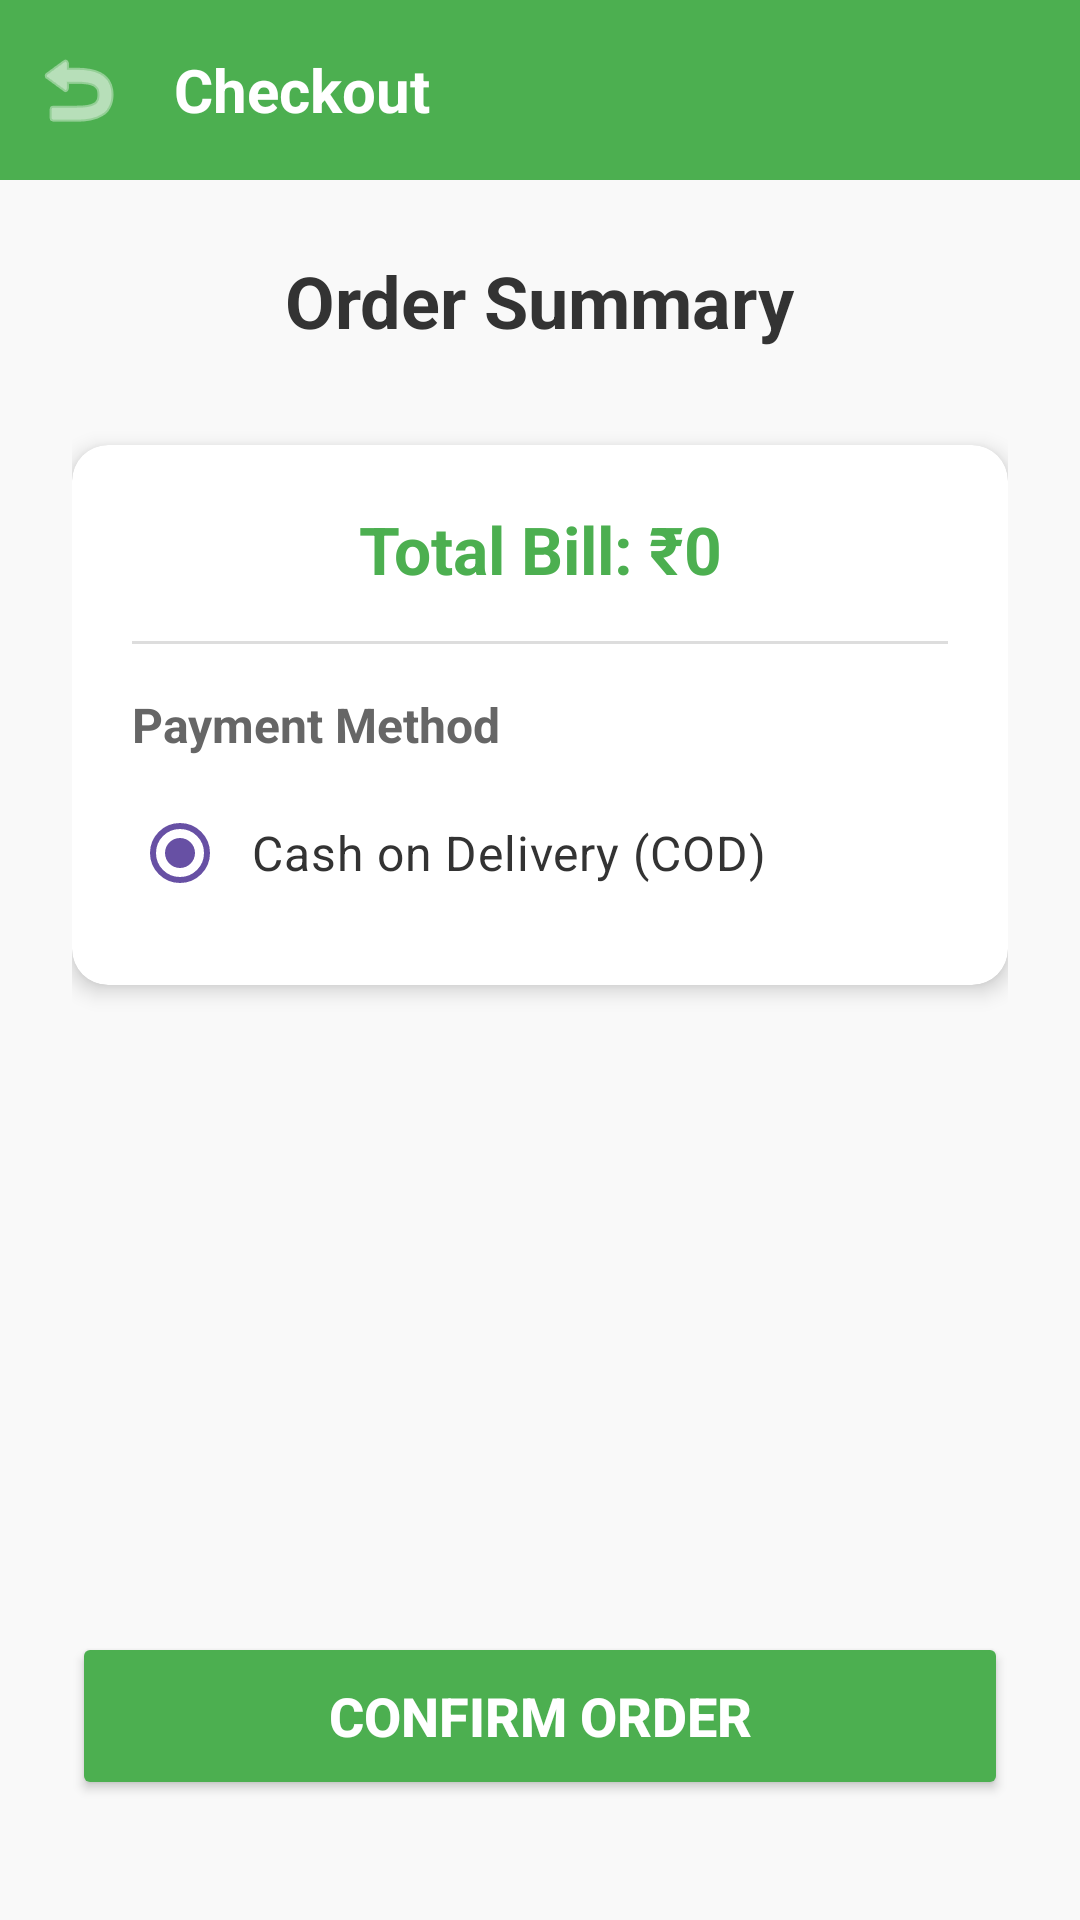

Screen size 1080x1920. Icon name, then its center in pixels as (x,y):
Back: (79,90)
